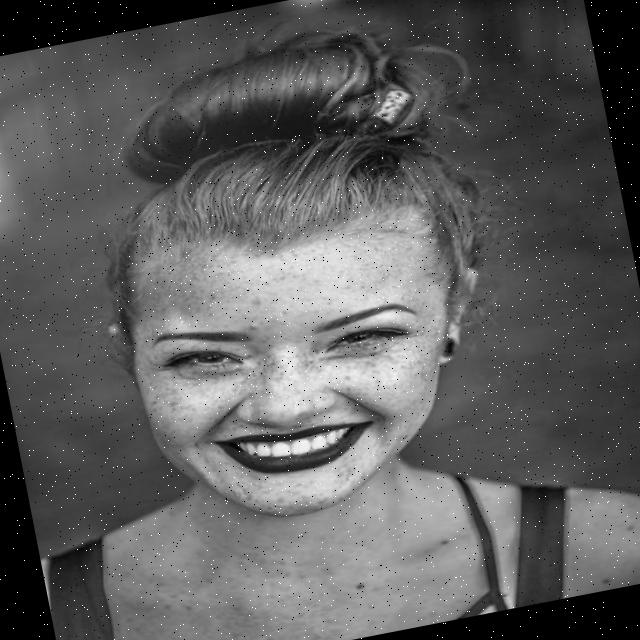Happiness: (110, 202, 484, 544)
